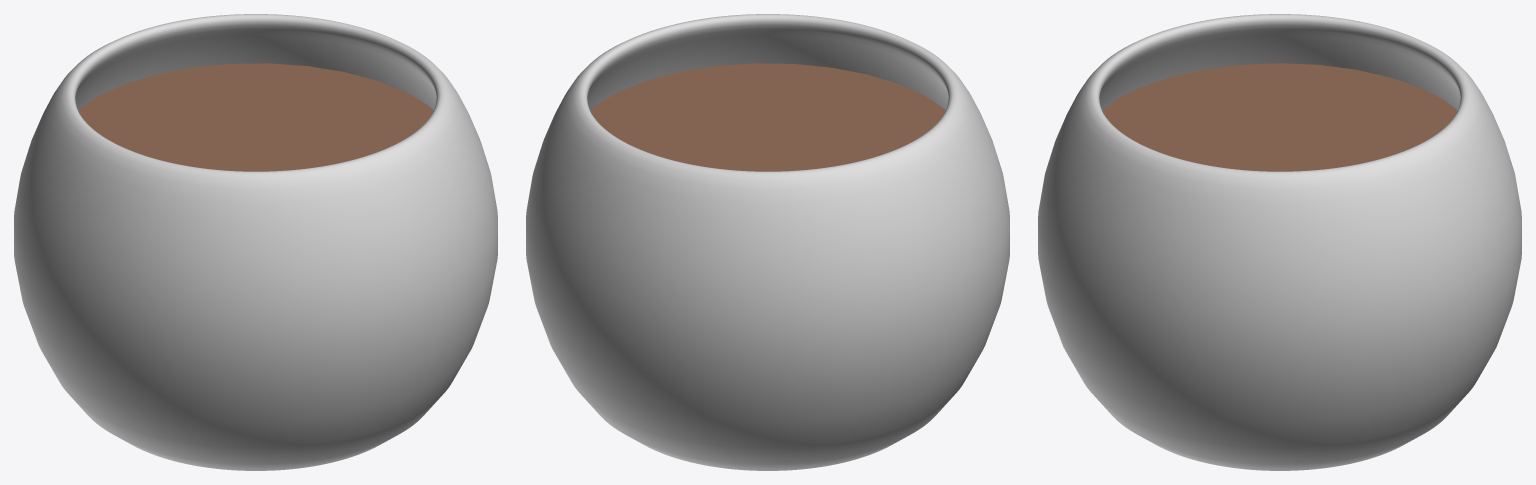
Rendered from round_white.glb.
The picture shows the model from 3 angles, left to right: view 1: azimuth 30°, elevation 25°; view 2: azimuth 150°, elevation 25°; view 3: azimuth 270°, elevation 25°; orthographic projection.
Visible parts, largest first — view 1: Circle.004, Circle.005; view 2: Circle.004, Circle.005; view 3: Circle.004, Circle.005.
Part boxes in pixels (x1,y1,x2,y2): Circle.004: (14, 14, 497, 470); Circle.005: (78, 63, 433, 171); Circle.004: (526, 14, 1009, 470); Circle.005: (590, 63, 945, 171); Circle.004: (1038, 14, 1521, 470); Circle.005: (1102, 63, 1457, 171).
Size of the model in its own units: 13.78 by 10.23 by 13.78.
